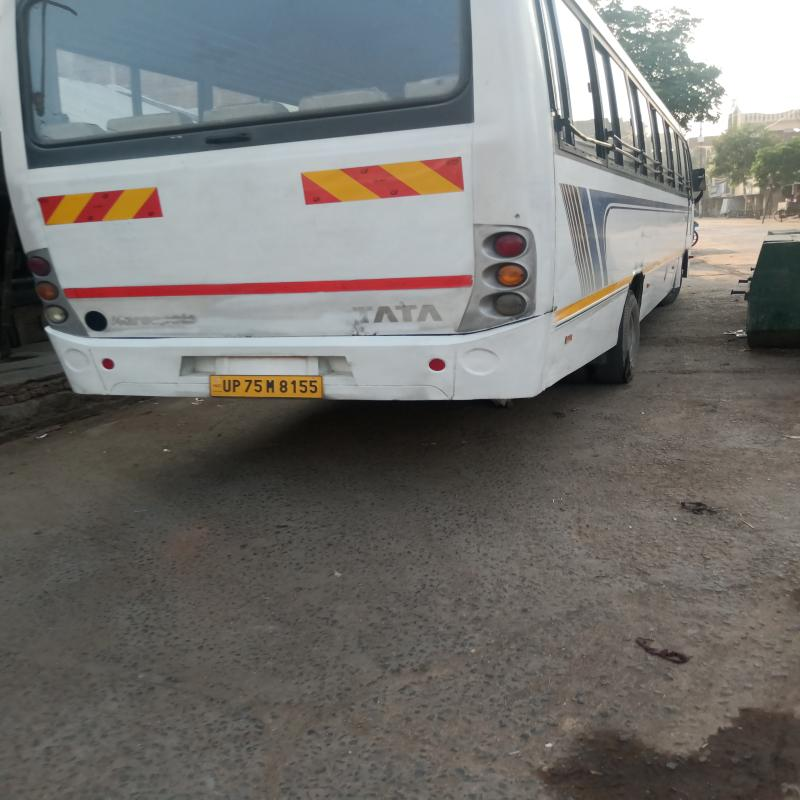bus: (0, 0, 688, 380)
